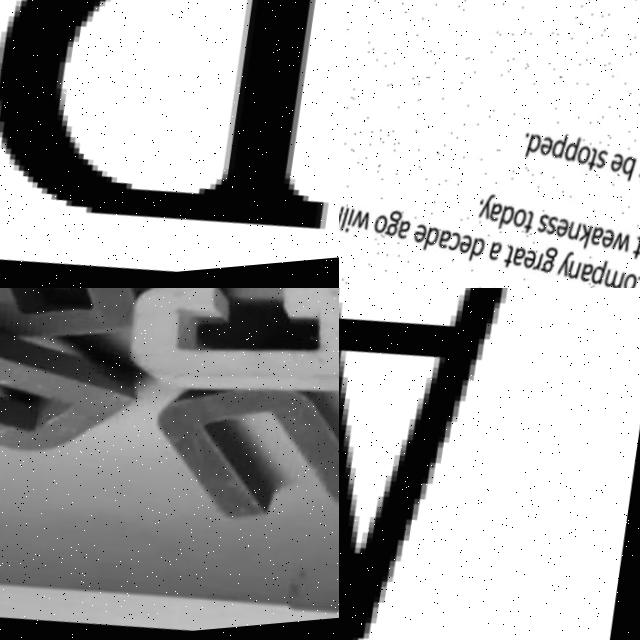A: (339, 288, 600, 640)
C: (102, 288, 339, 425)
D: (0, 306, 134, 480)
O: (0, 288, 164, 362)
P: (0, 0, 327, 237)
U: (140, 370, 339, 553)
